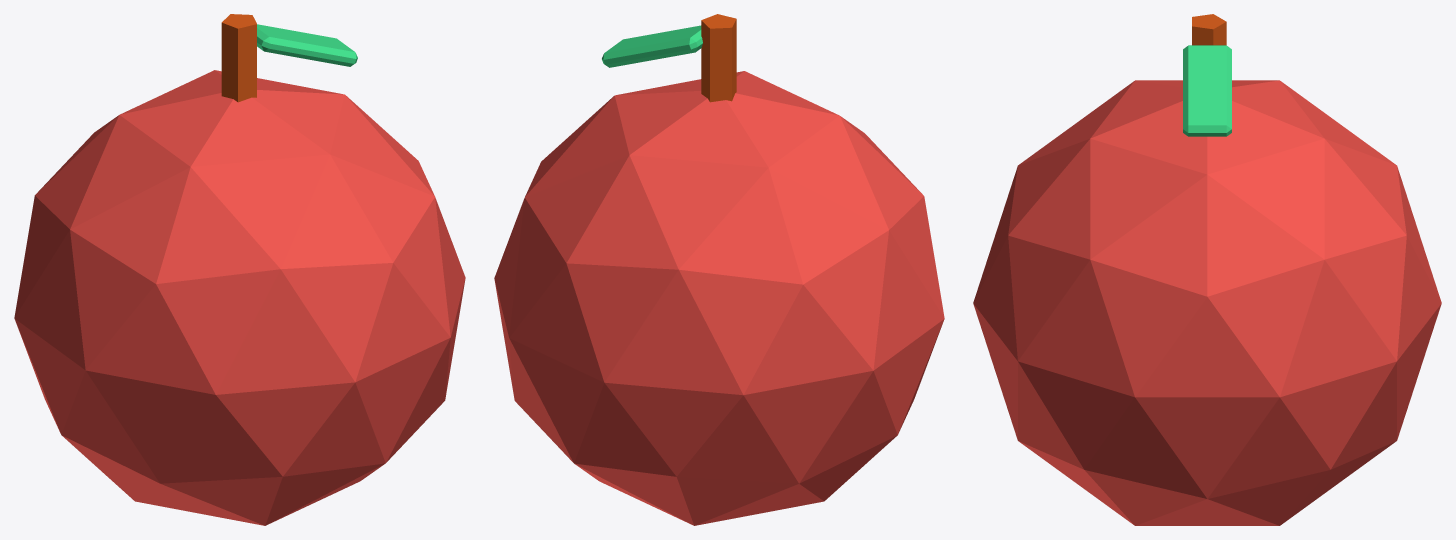
Rendered from apple_structure.glb.
3 views of the same model, side by side, from view 1: azimuth 30°, elevation 25°; view 2: azimuth 150°, elevation 25°; view 3: azimuth 270°, elevation 25° (orthographic).
Visible parts, largest first — view 1: apple_structure; view 2: apple_structure; view 3: apple_structure.
Part boxes in pixels (x1,y1,x2,y2): apple_structure: (14, 14, 465, 525); apple_structure: (494, 14, 944, 525); apple_structure: (973, 14, 1441, 525).
Size of the model in its own units: 1.64 by 2 by 1.72.
